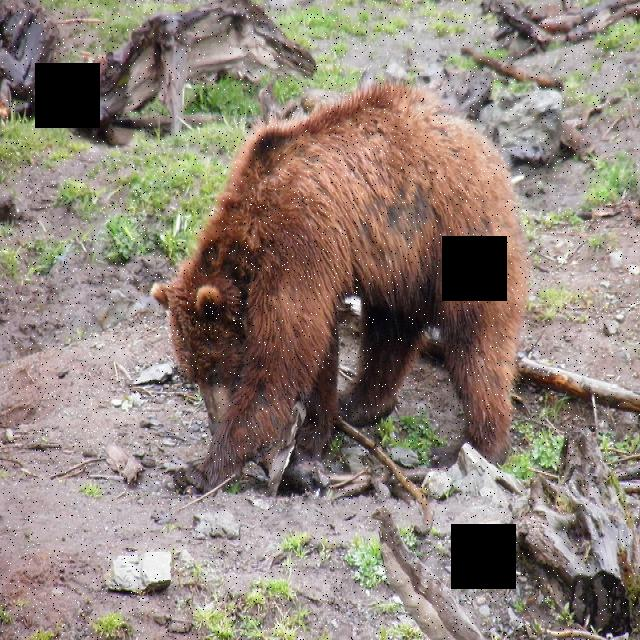Bear: (153, 74, 516, 474)
